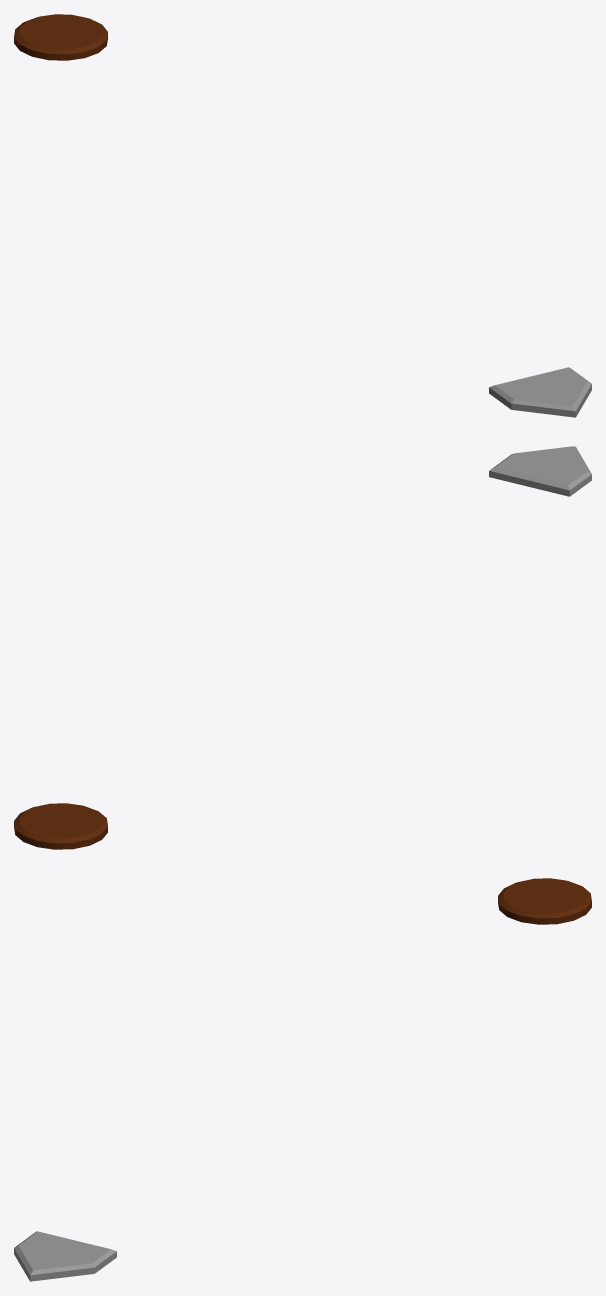
The model's file is all.fbx.
3 renders of one model, top to bottom at view 1: azimuth 30°, elevation 25°; view 2: azimuth 150°, elevation 25°; view 3: azimuth 330°, elevation 25°, orthographic.
Parts seen in each view (by area): view 1: Centr_low, Base_low; view 2: Centr_low, Base_low; view 3: Centr_low, Base_low.
Boxes of the visible parts, x1,y1,x2,y2 form: Centr_low: [14, 14, 107, 60]; Base_low: [489, 367, 591, 417]; Centr_low: [14, 803, 107, 849]; Base_low: [489, 446, 591, 496]; Centr_low: [498, 878, 591, 924]; Base_low: [14, 1231, 116, 1281].
Size of what is drawn, in the model's own units: 64.3 by 6.72 by 730.
